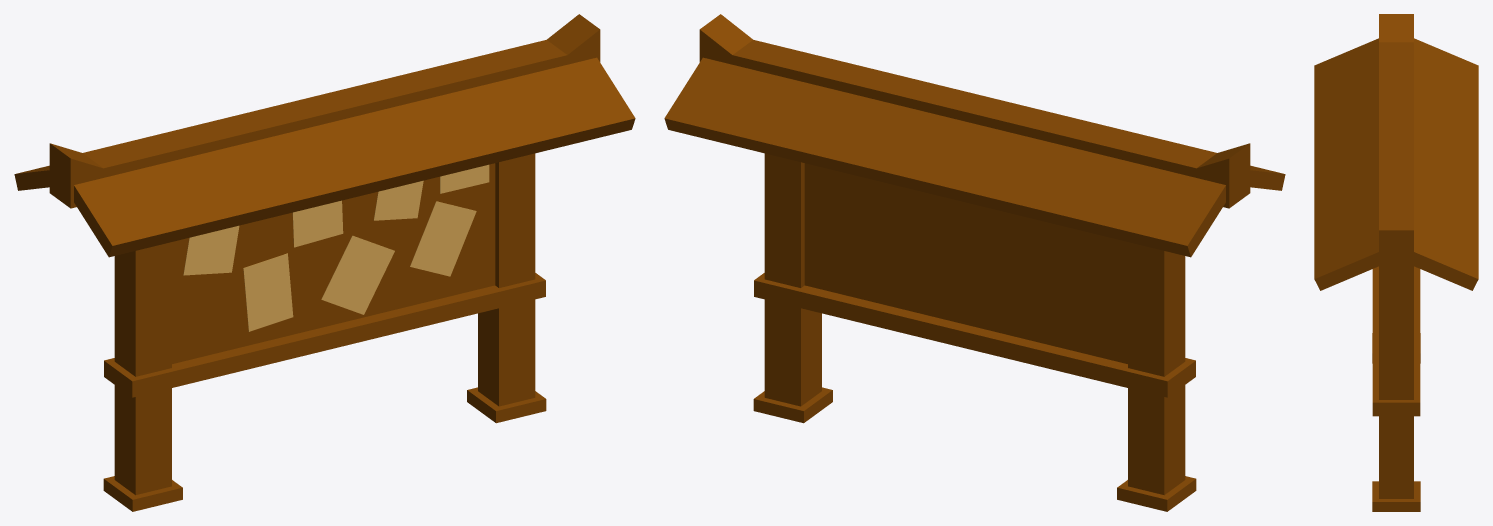
The model's file is GEO_notice_board.fbx.
The picture shows the model from 3 angles, left to right: view 1: azimuth 30°, elevation 25°; view 2: azimuth 150°, elevation 25°; view 3: azimuth 270°, elevation 25°; orthographic projection. The views are drawn at different scales.
Parts seen in each view (by area): view 1: GEO_notice_board; view 2: GEO_notice_board; view 3: GEO_notice_board.
Boxes of the visible parts, x1=… form: GEO_notice_board: x1=14, y1=14, x2=635, y2=511; GEO_notice_board: x1=664, y1=14, x2=1285, y2=511; GEO_notice_board: x1=1314, y1=14, x2=1478, y2=511.
Bounding box in the file's own units: 408 × 269 × 131.
